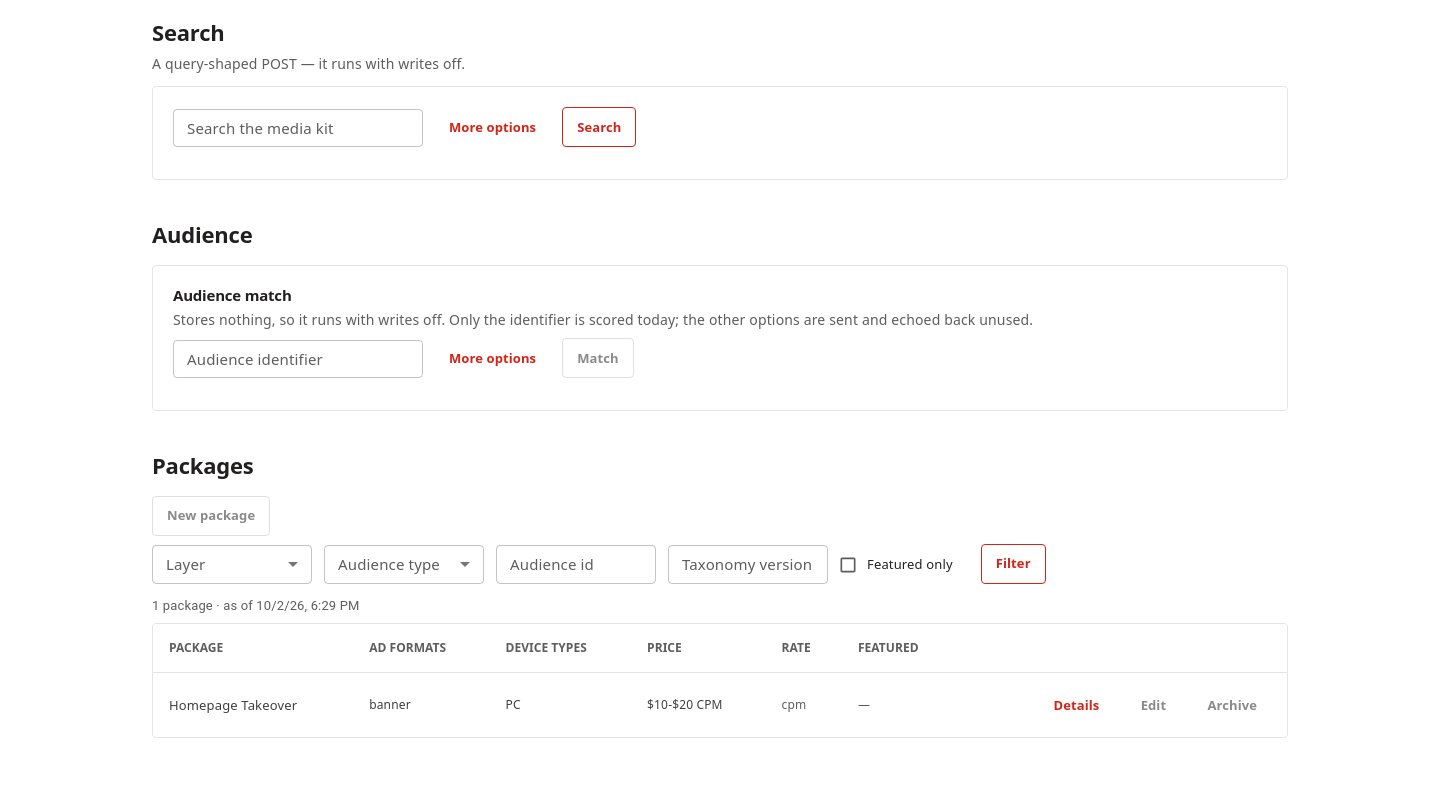
Test case: media kit queries › shows content categories in a package's detail
(page scrolled)
Expected: the row that starts with "Homepage Takeover" is shown, x1=153 y1=673 x2=1287 y2=737
Step 1. Click the button "Details" → coordinates (1076, 705), box x1=1040 y1=685 x2=1113 y2=725
(page scrolled)
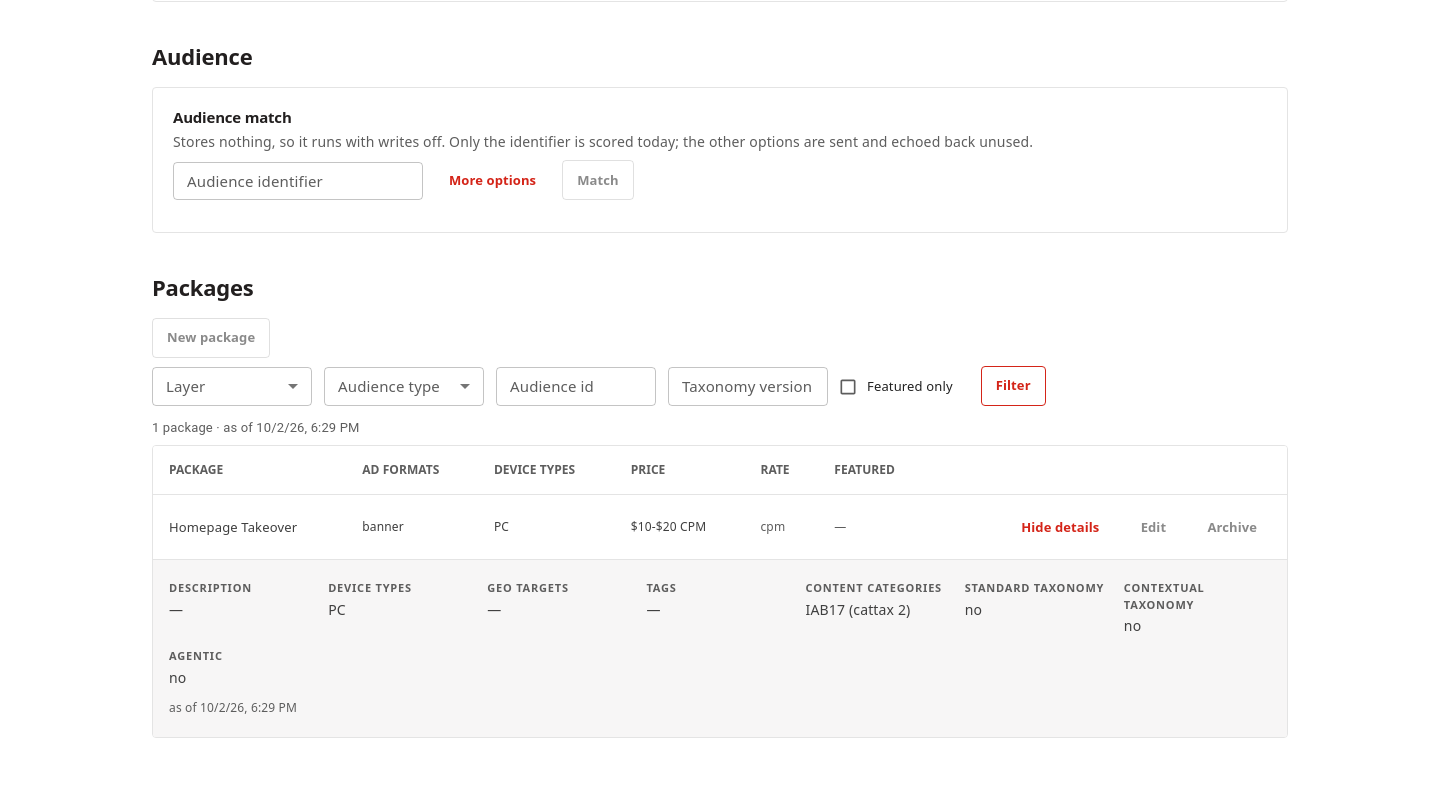
Expected: the element that starts with "Description" shows "IAB17 (cattax 2)", x1=806 y1=600 x2=910 y2=619
